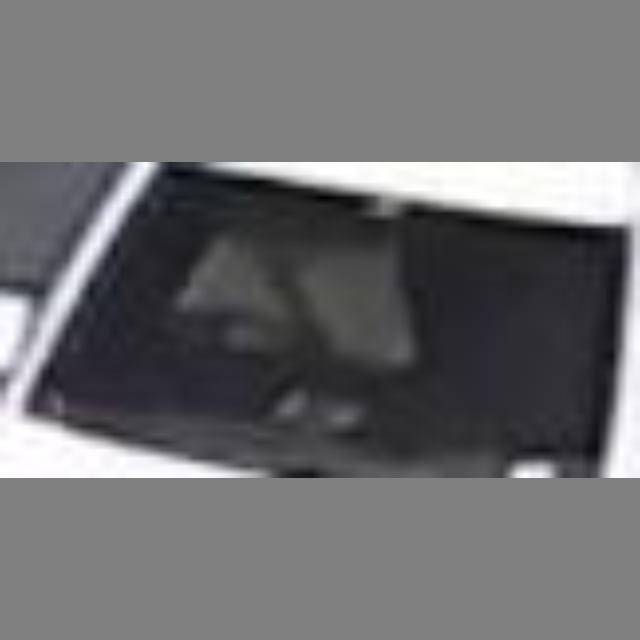pakai: (174, 209, 395, 375)
